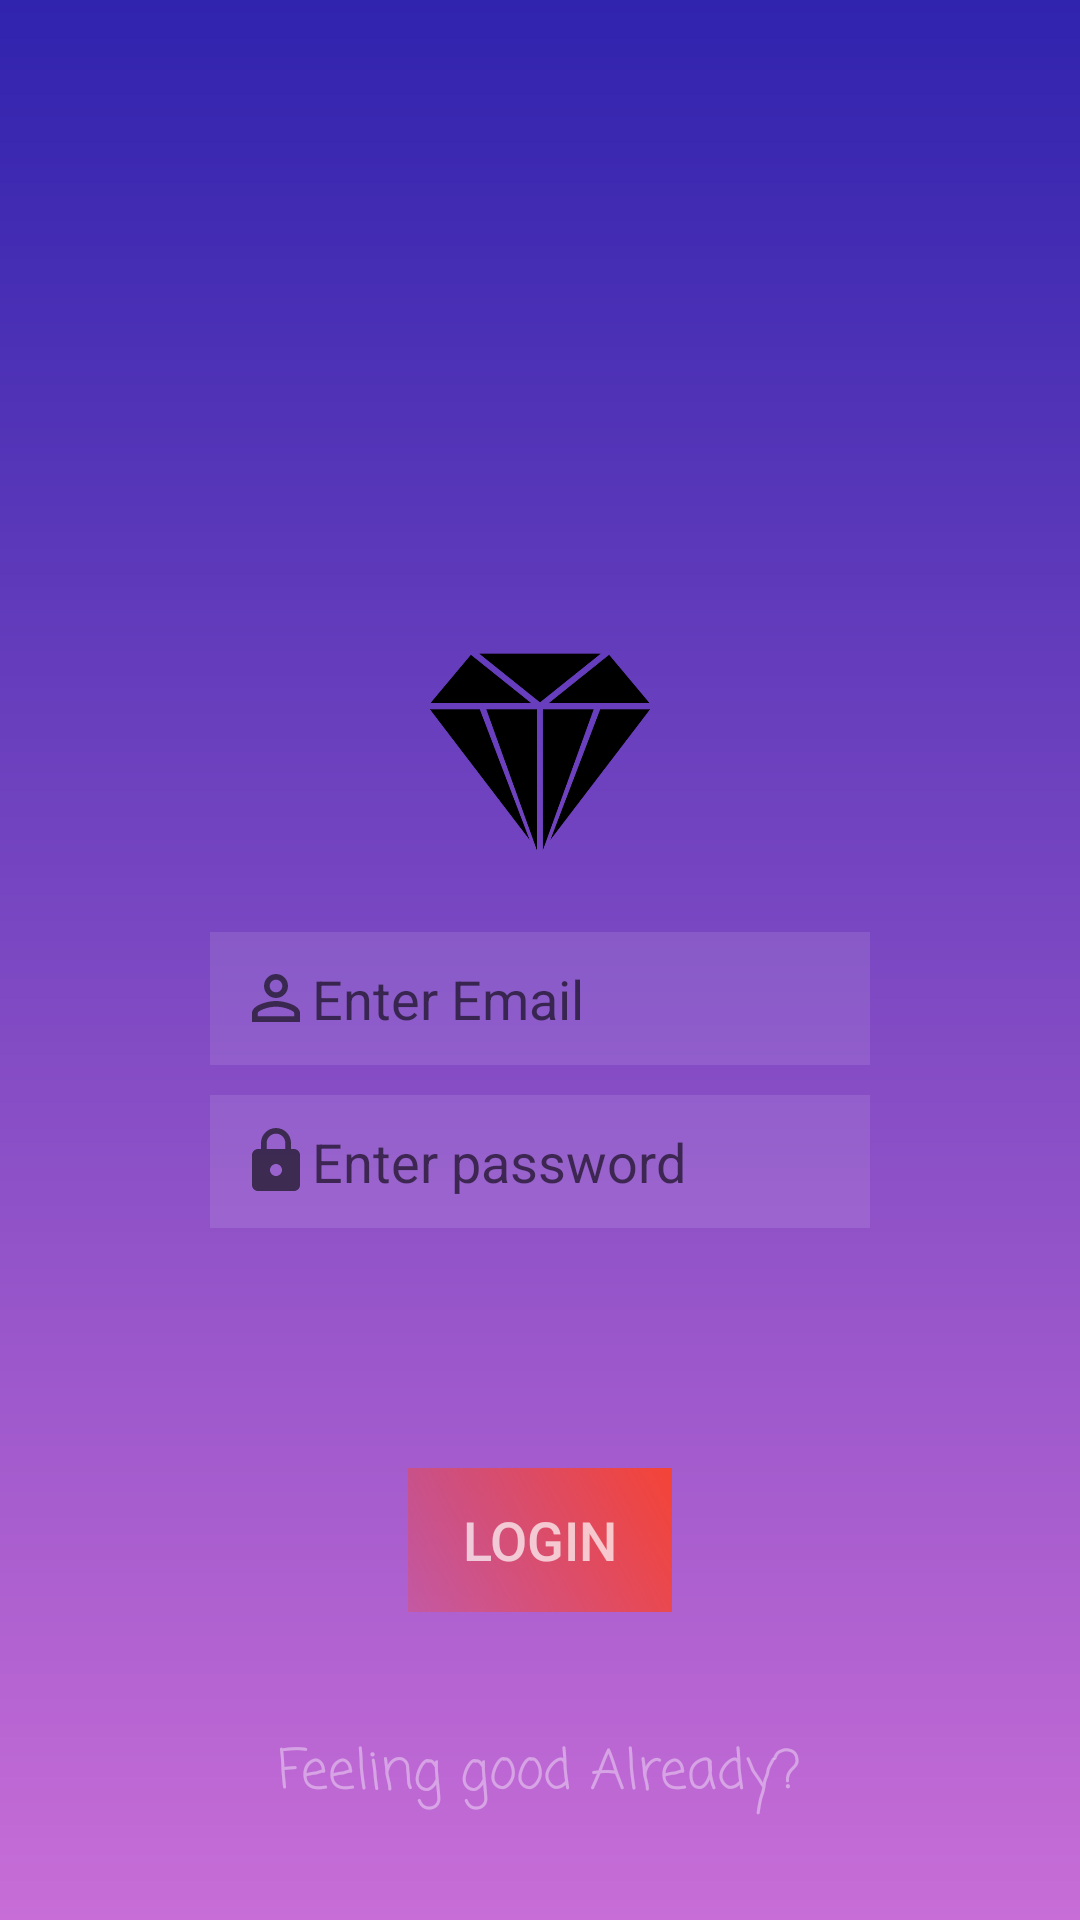

Named icons in this screenshot (1080px x 1920px) and their centers, (x=x, y=y):
diamond: (x=540, y=751)
